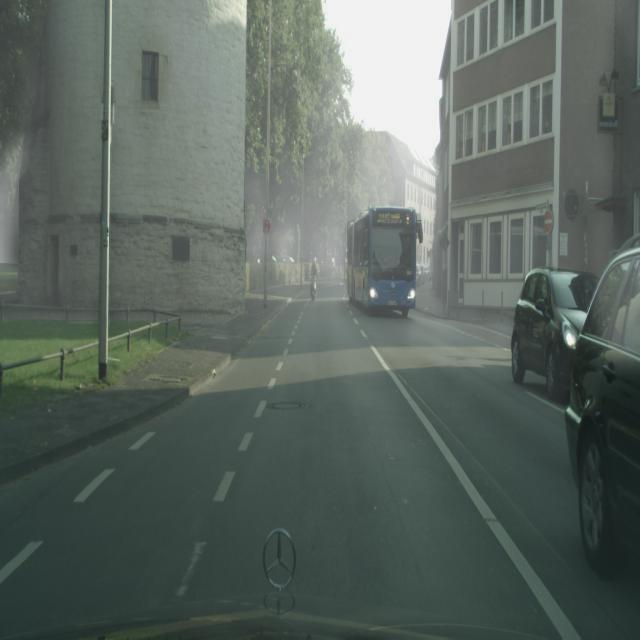bicycle: (346, 206, 418, 318)
person: (310, 257, 319, 298)
truck: (564, 237, 640, 577), (510, 267, 598, 399)
